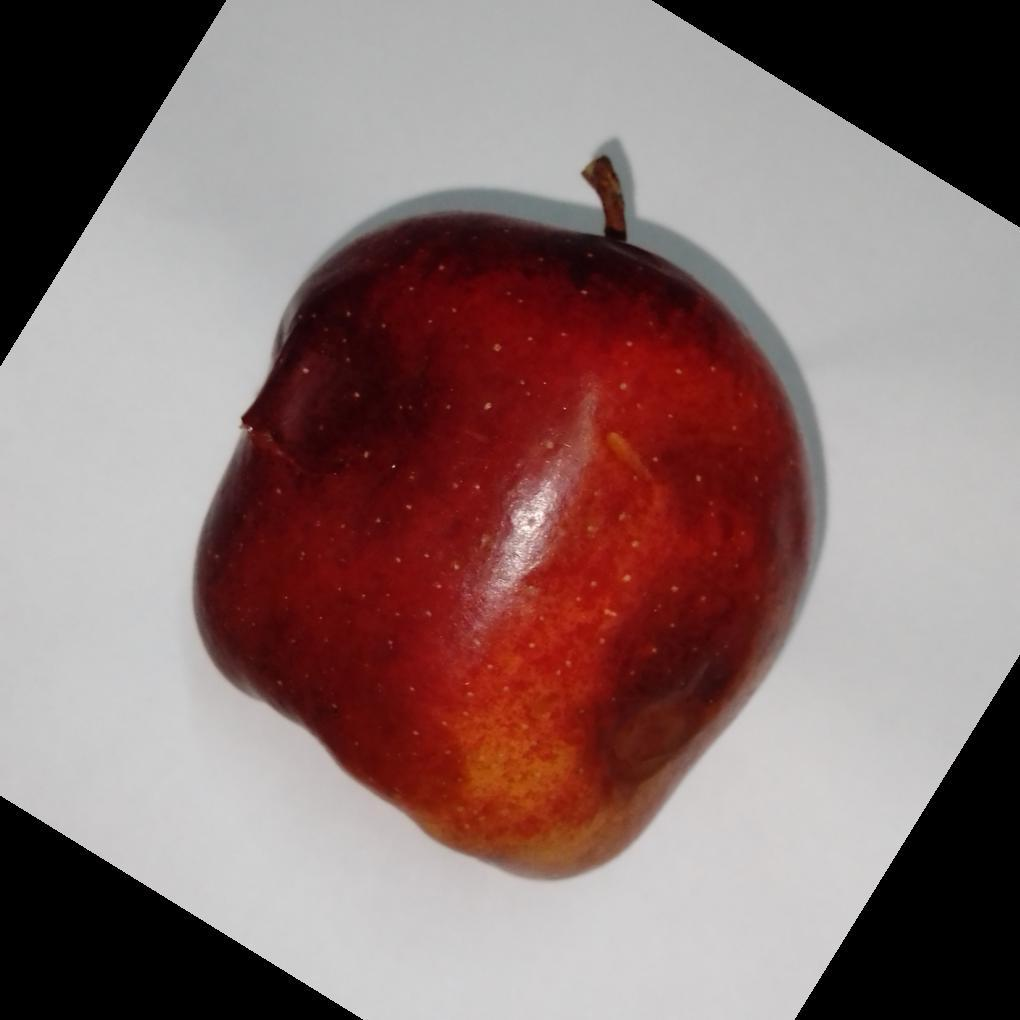FreshOrange: (190, 151, 829, 885)
